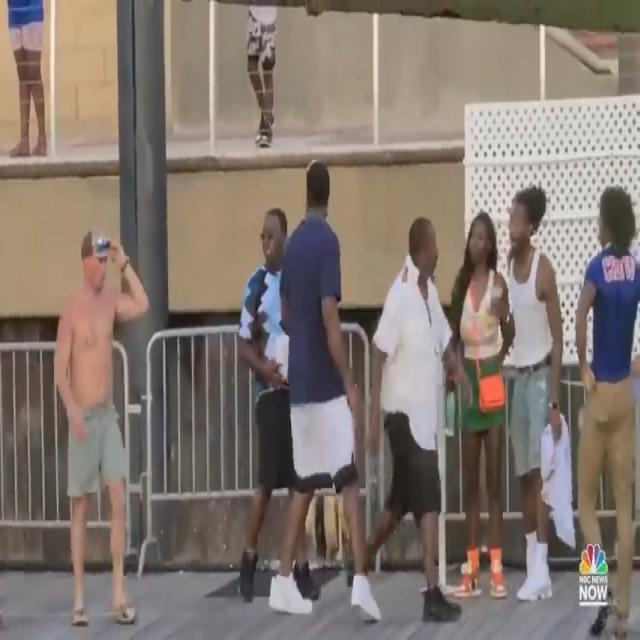non-fight: (234, 156, 640, 640), (53, 221, 151, 630)
